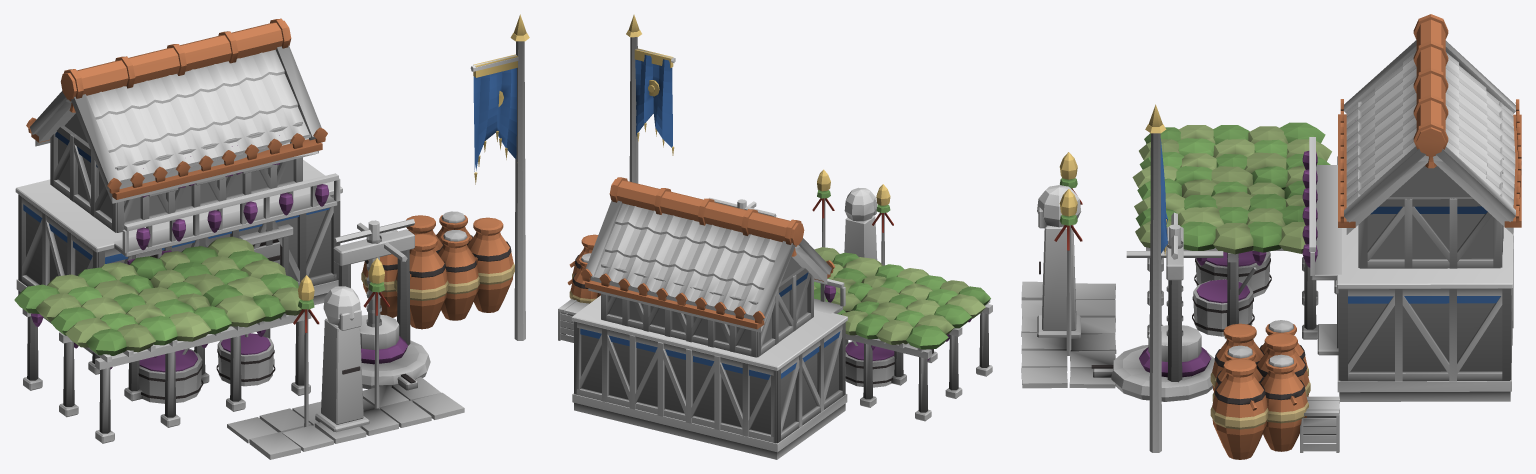
Rendered from brewery-l2.glb.
3 renders of one model, left to right at view 1: azimuth 30°, elevation 25°; view 2: azimuth 150°, elevation 25°; view 3: azimuth 270°, elevation 25°, orthographic. The views are drawn at different scales.
Parts seen in each view (by area): view 1: brewery-l2; view 2: brewery-l2; view 3: brewery-l2.
Boxes of the visible parts, x1,y1,x2,y2 form: brewery-l2: (14, 14, 529, 459); brewery-l2: (558, 14, 992, 459); brewery-l2: (1021, 14, 1521, 459).
Size of the model in its own units: 1.51 by 1.01 by 1.32.
